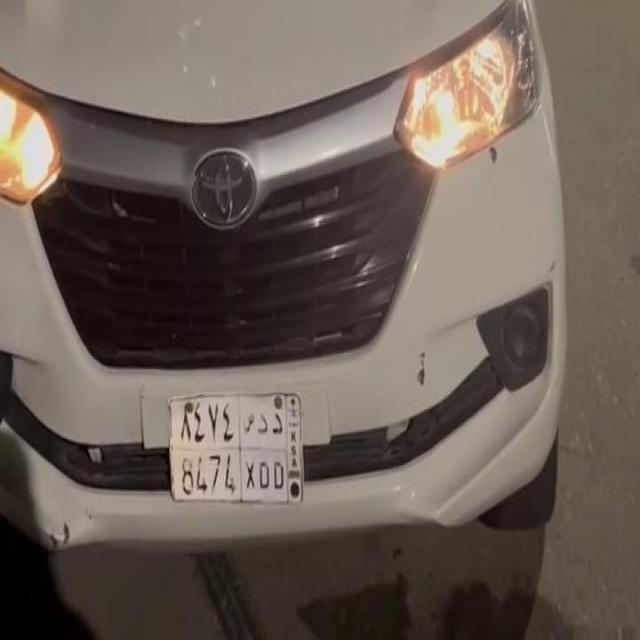Car-plate: (158, 376, 317, 527)
